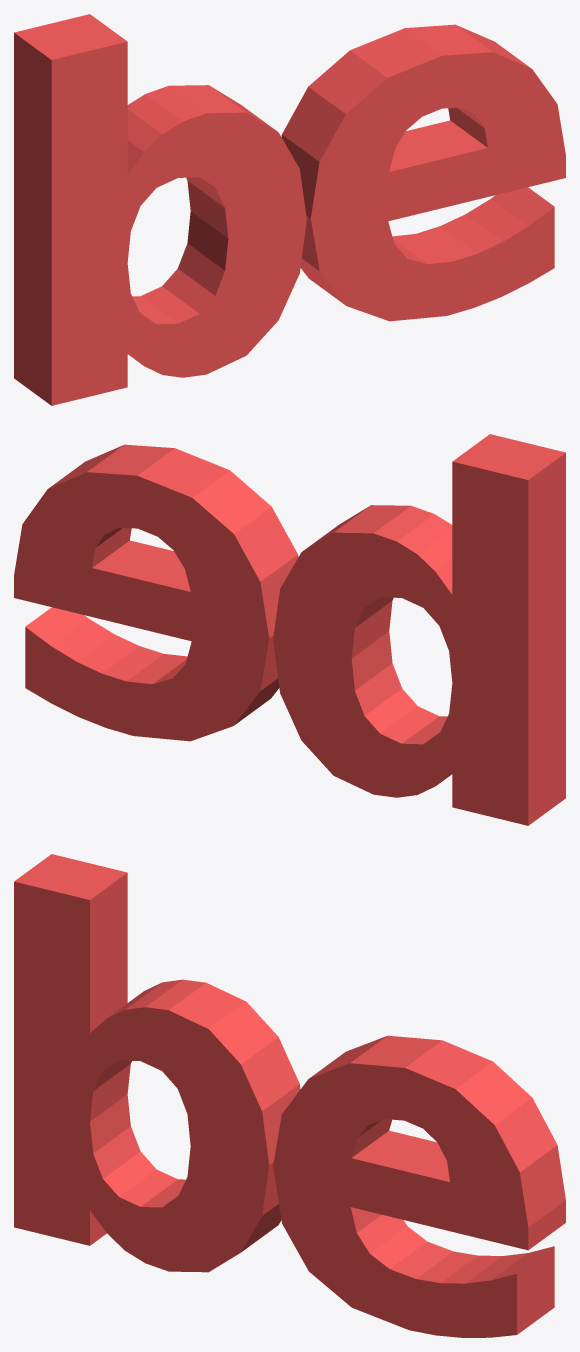
Rendered from suku_kecil_be.glb.
The picture shows the model from 3 angles, top to bottom: view 1: azimuth 30°, elevation 25°; view 2: azimuth 150°, elevation 25°; view 3: azimuth 330°, elevation 25°; orthographic projection.
Parts seen in each view (by area): view 1: geometry_0; view 2: geometry_0; view 3: geometry_0.
Part boxes in pixels (<box>): geometry_0: <box>14,14,565,405</box>; geometry_0: <box>14,434,565,825</box>; geometry_0: <box>14,854,565,1337</box>.
Bounding box in the file's own units: 11.83 × 7.74 × 1.5.
